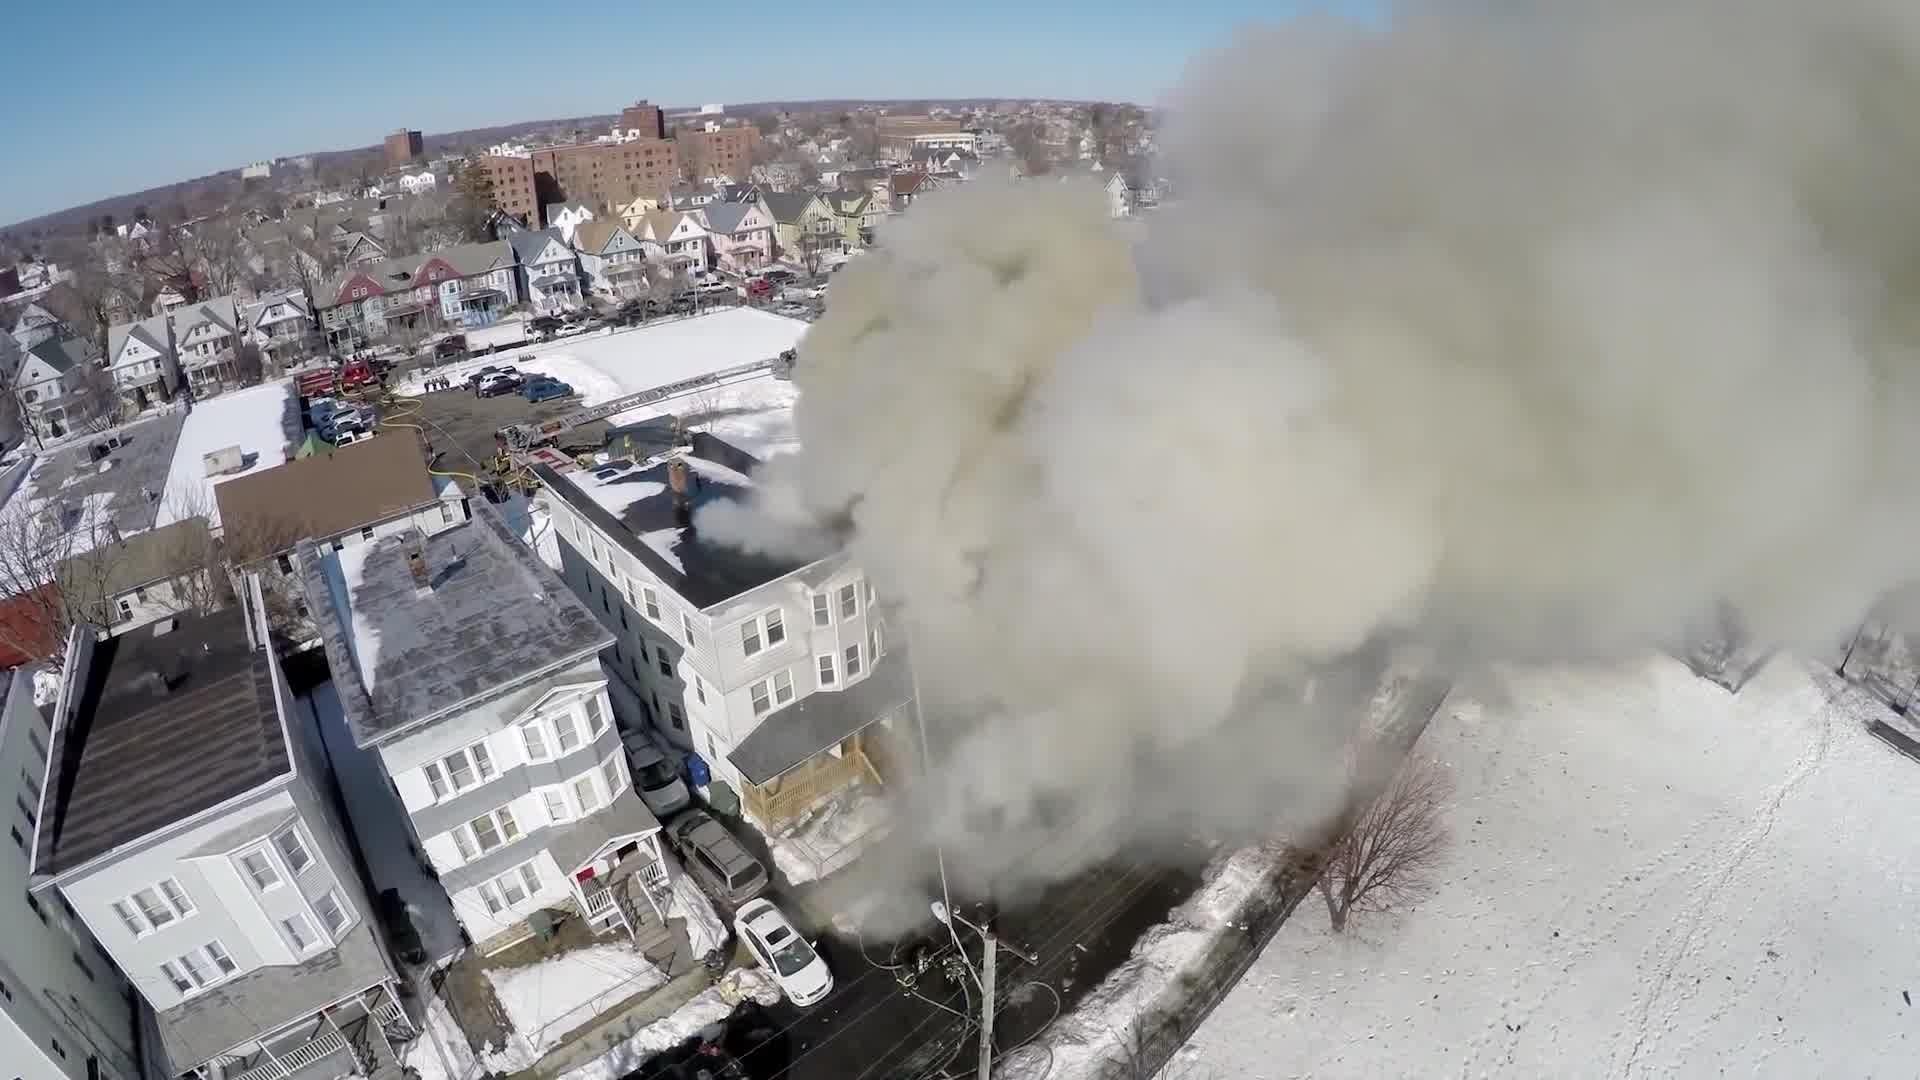smoke: (799, 8, 1910, 908)
